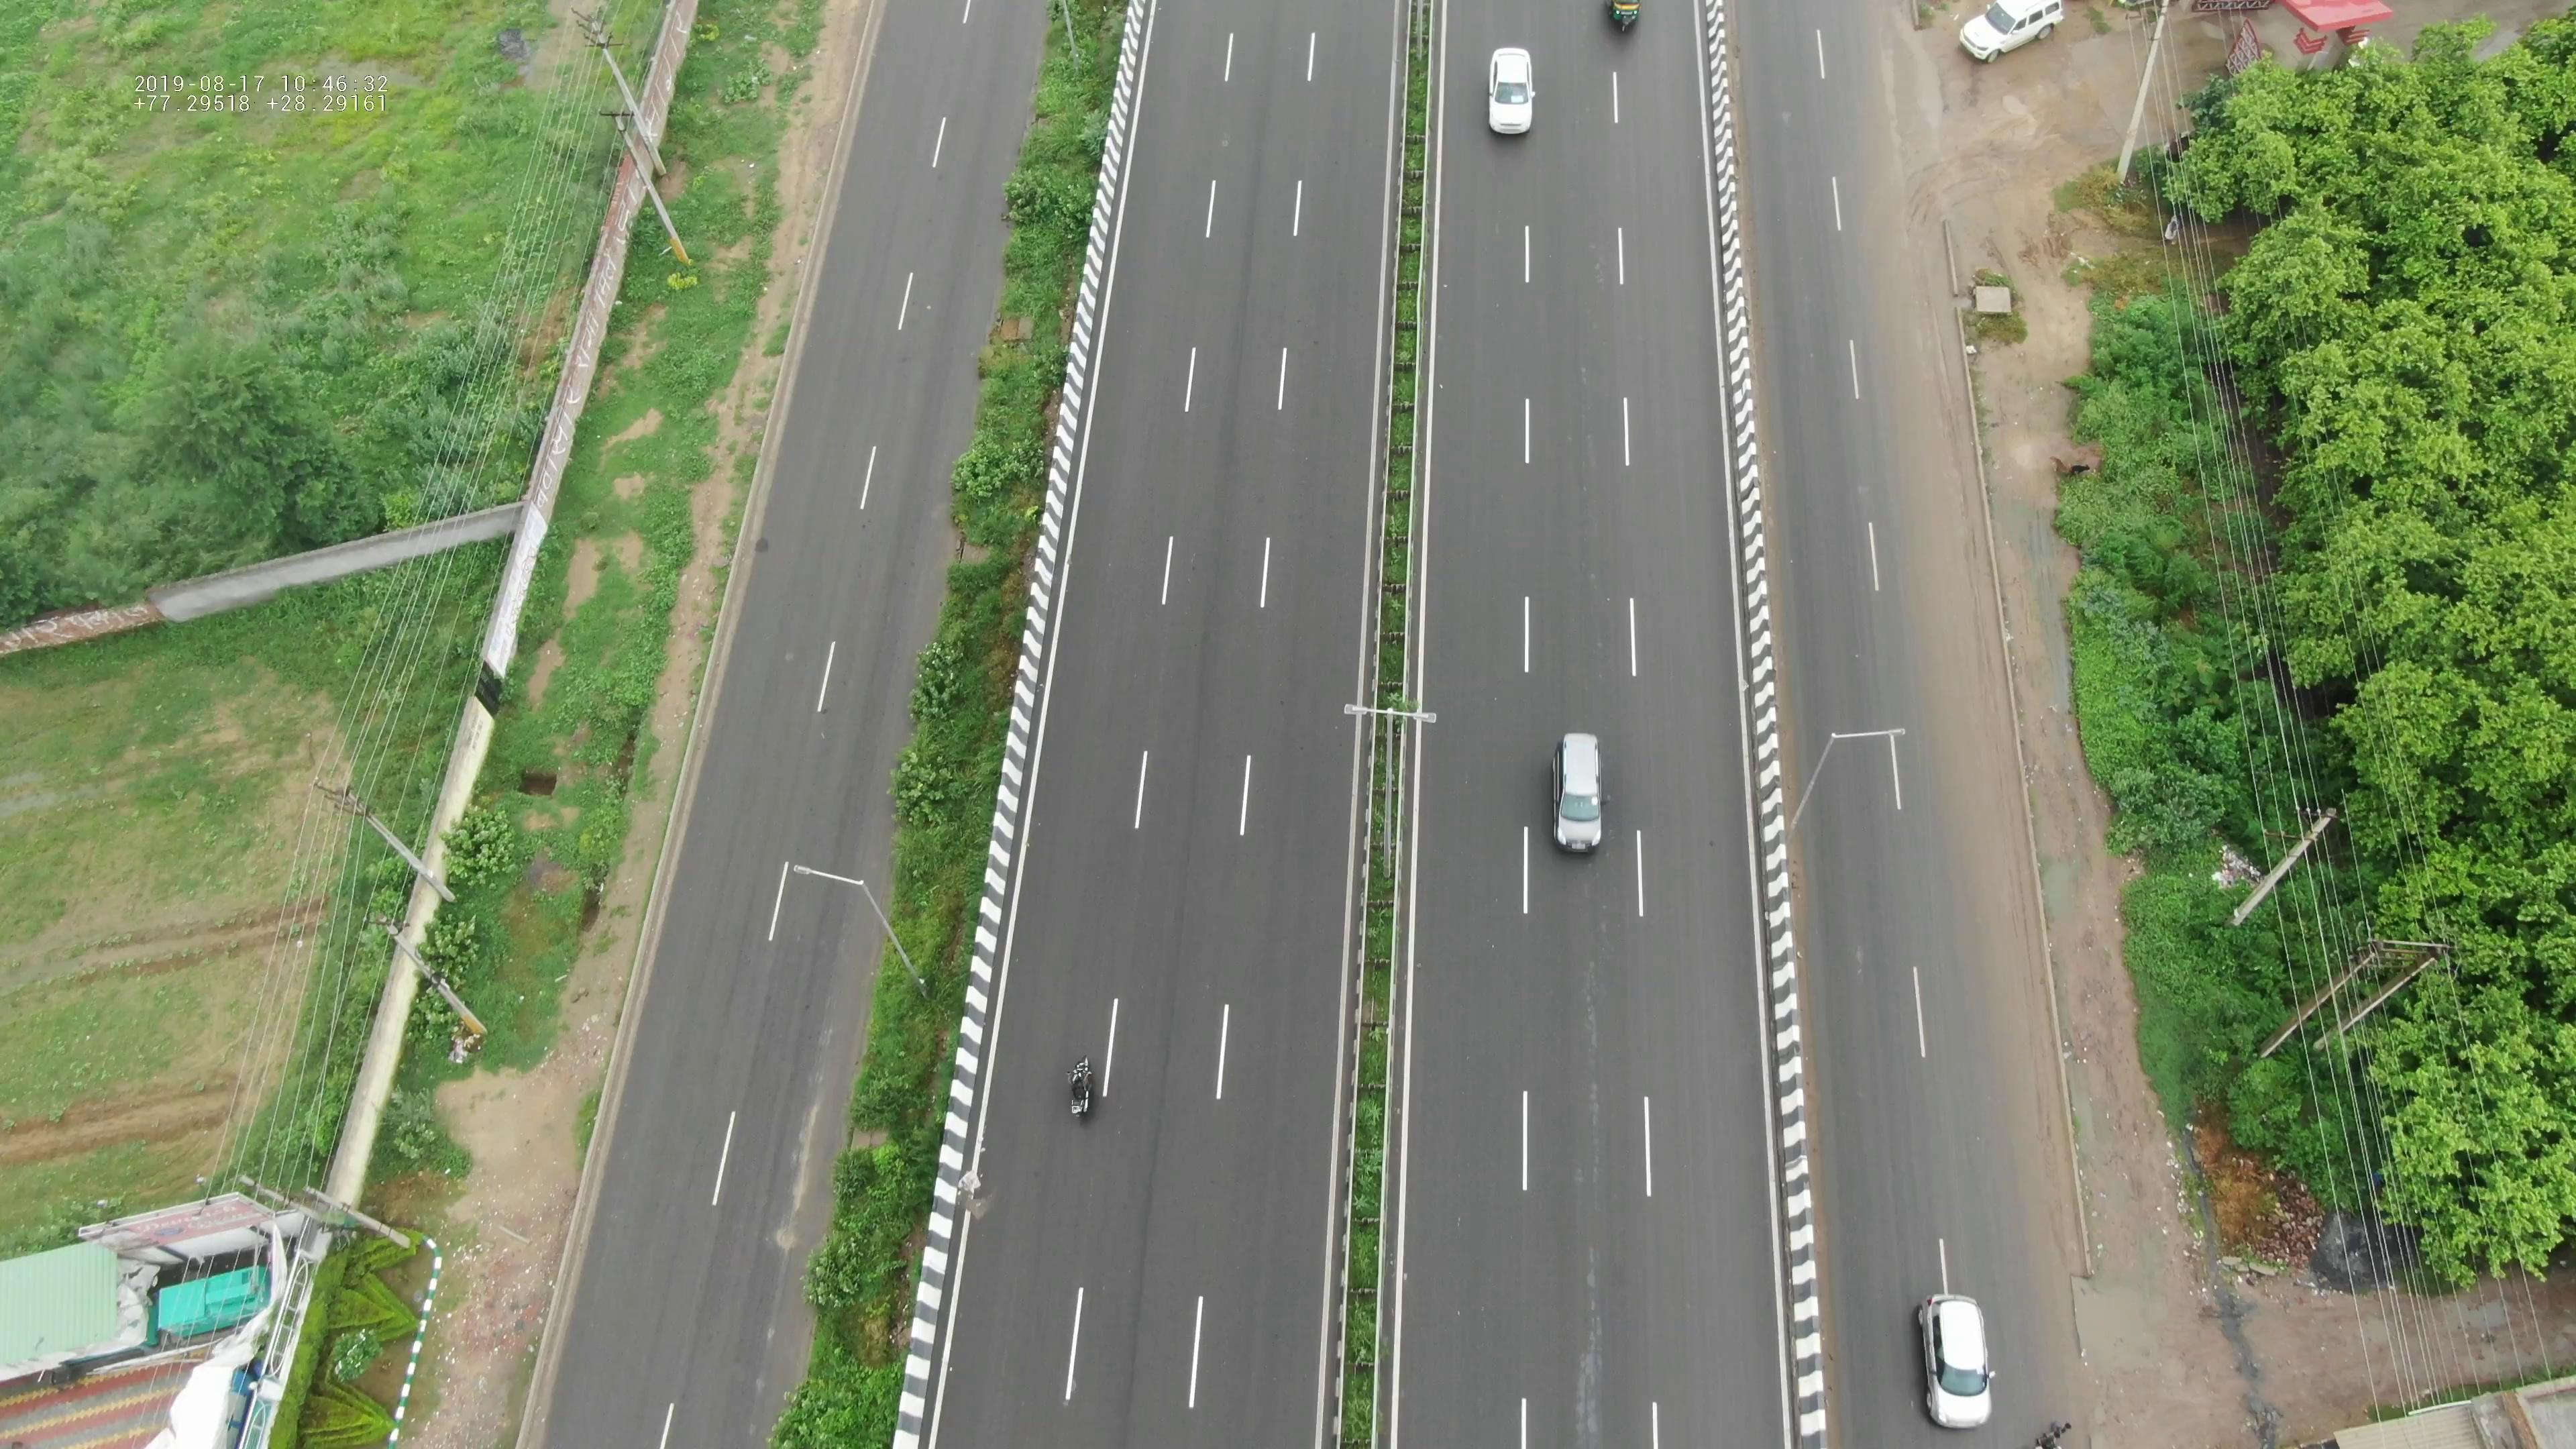Muddy_road: (1907, 472, 2015, 688), (1874, 62, 1957, 318)
